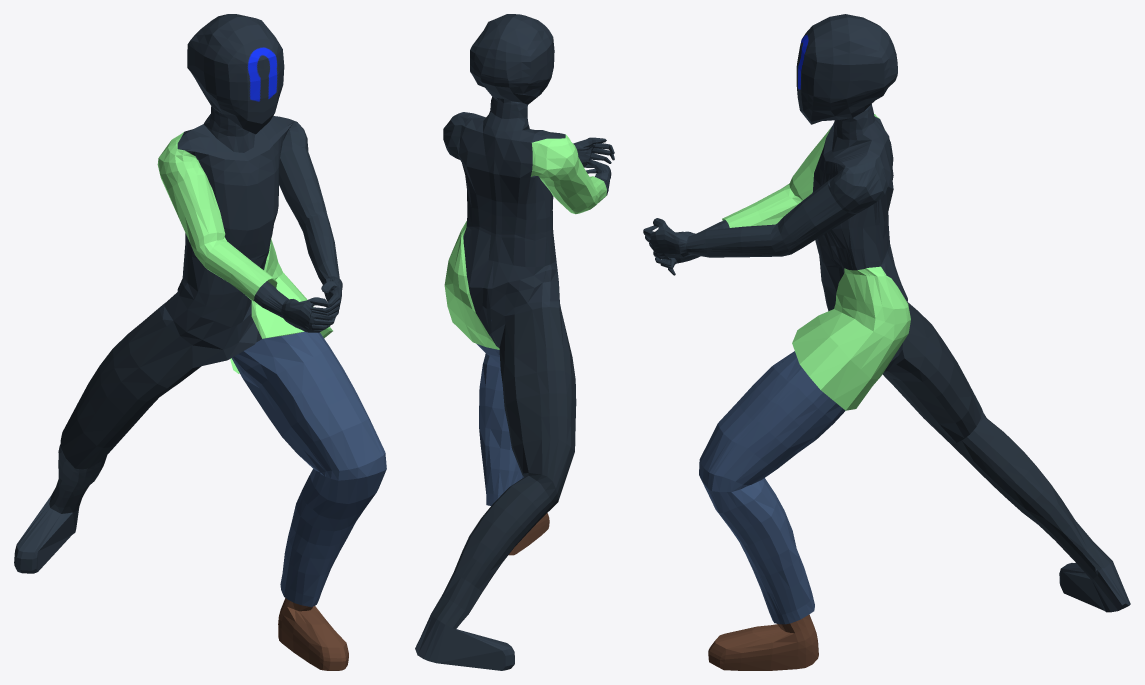
Rendered from Mar_WB_000013.obj.
3 views of the same model, side by side, from view 1: azimuth 30°, elevation 25°; view 2: azimuth 150°, elevation 25°; view 3: azimuth 270°, elevation 25° (orthographic). The views are drawn at different scales.
Visible parts, largest first — view 1: Cube.000_Cube.001; view 2: Cube.000_Cube.001; view 3: Cube.000_Cube.001.
Boxes of the visible parts, x1,y1,x2,y2 form: Cube.000_Cube.001: [14, 14, 386, 670]; Cube.000_Cube.001: [415, 14, 614, 670]; Cube.000_Cube.001: [643, 14, 1130, 670].
Size of the model in its own units: 1.17 by 3.48 by 2.45.
